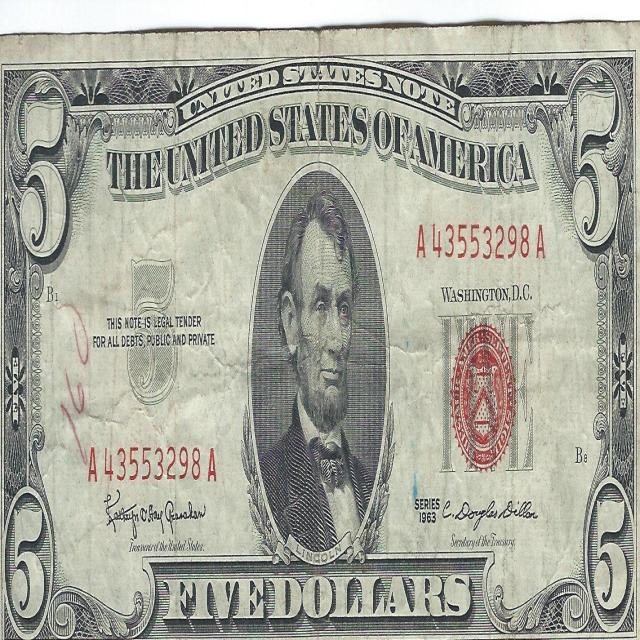5-Front: (1, 35, 640, 640)
